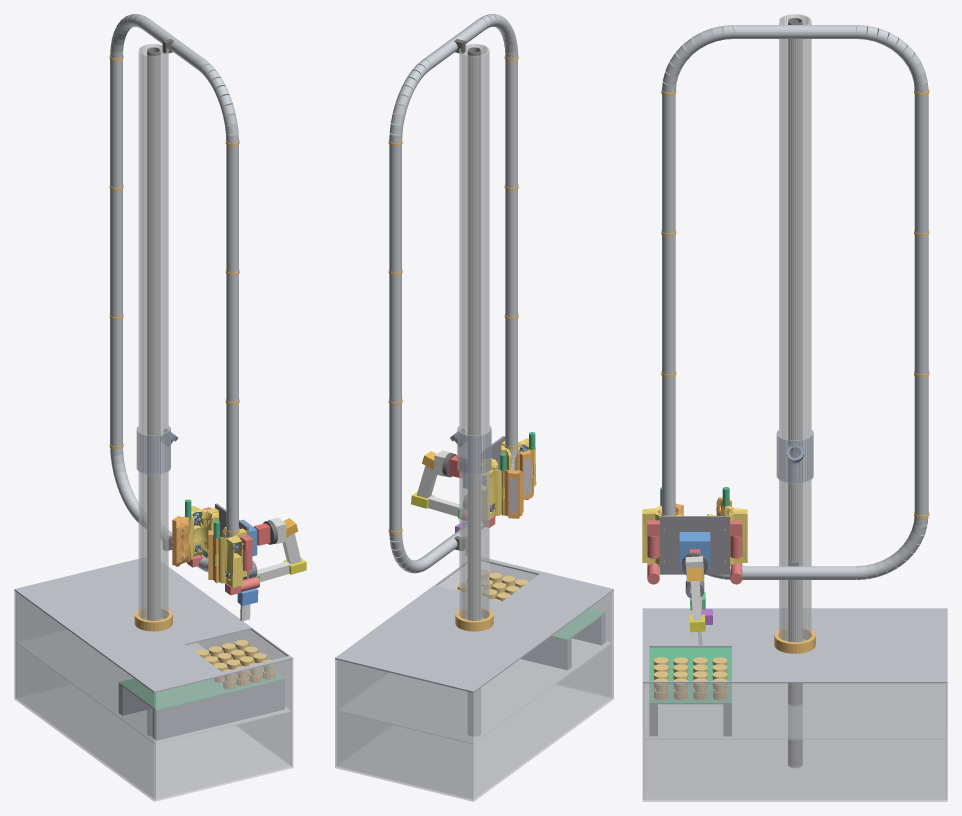
The model's file is transplant-seedling-start-v10.glb.
3 views of the same model, side by side, from view 1: azimuth 30°, elevation 25°; view 2: azimuth 150°, elevation 25°; view 3: azimuth 270°, elevation 25° (orthographic). The views are drawn at different scales.
Size of the model in its own units: 0.5019 by 1.9 by 0.701.
